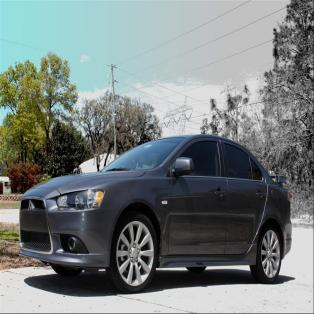Auto: (18, 134, 295, 294)
